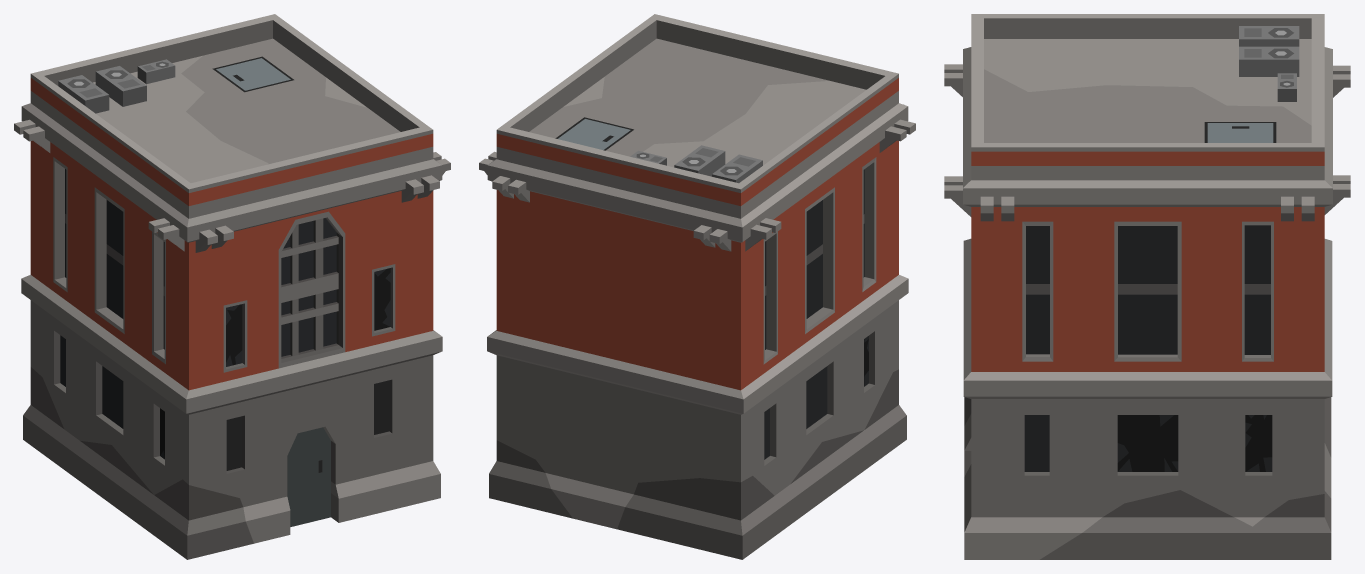
The model's file is SA_Bld_WarehouseOld_Damaged_01.gltf.
3 views of the same model, side by side, from view 1: azimuth 30°, elevation 25°; view 2: azimuth 150°, elevation 25°; view 3: azimuth 270°, elevation 25° (orthographic). The views are drawn at different scales.
Parts seen in each view (by area): view 1: SA_Bld_WarehouseOld_Damaged_01; view 2: SA_Bld_WarehouseOld_Damaged_01; view 3: SA_Bld_WarehouseOld_Damaged_01.
Boxes of the visible parts, <box> form: SA_Bld_WarehouseOld_Damaged_01: <box>14,14,450,559</box>; SA_Bld_WarehouseOld_Damaged_01: <box>479,14,915,559</box>; SA_Bld_WarehouseOld_Damaged_01: <box>944,14,1350,559</box>.
Size of the model in its own units: 13.59 by 16.6 by 14.91.
1 material, 1 textured.
